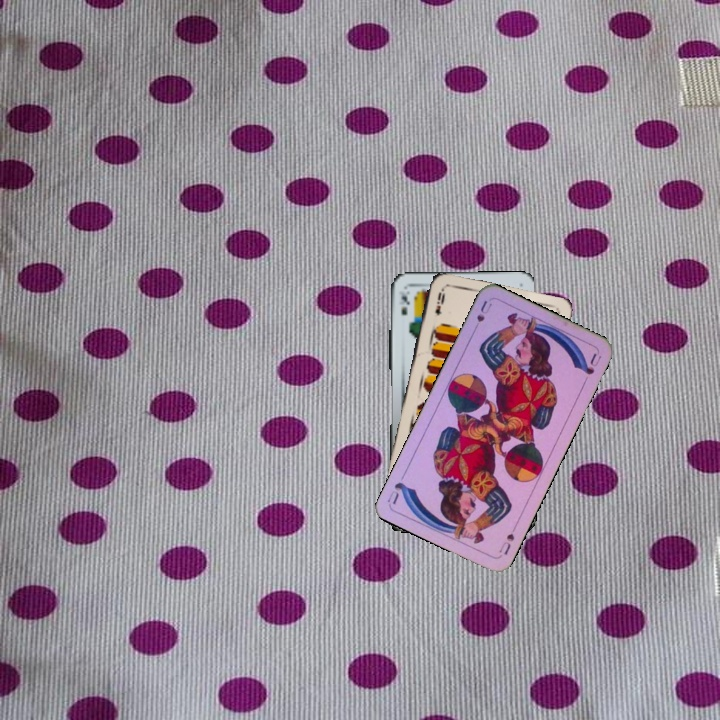E9: (431, 286, 448, 318)
EK: (395, 290, 410, 318)
SU: (495, 520, 520, 558), (472, 296, 495, 325)
